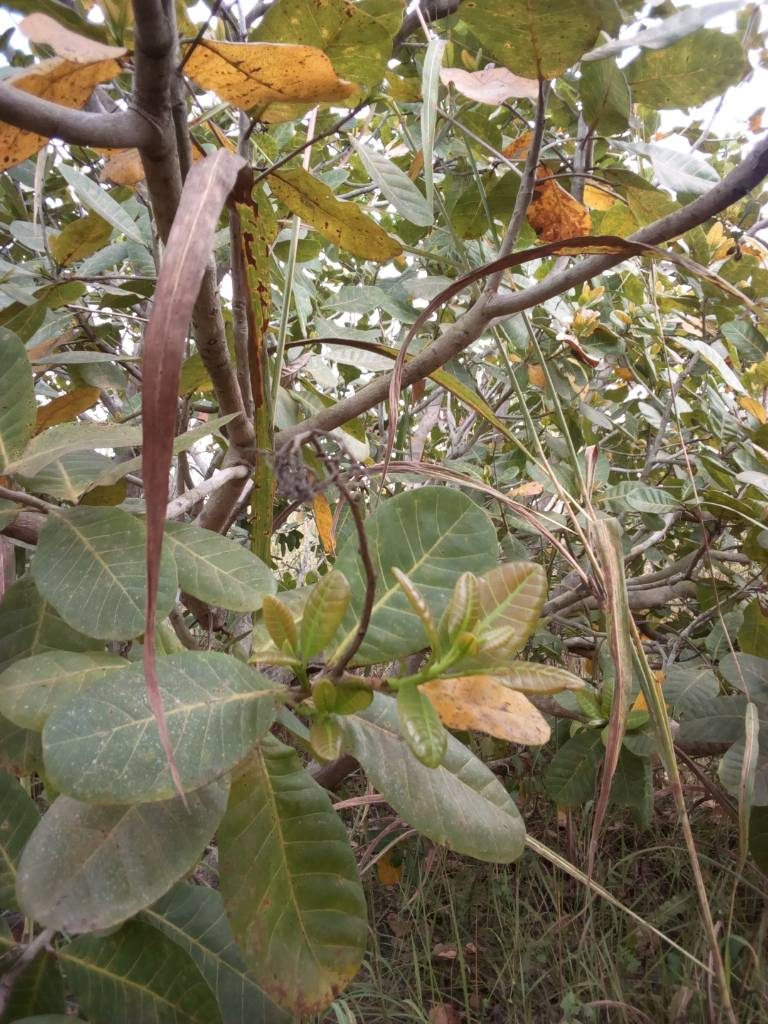Anthracnose: (227, 753, 365, 1017), (174, 30, 358, 116), (261, 161, 405, 263), (425, 669, 555, 744)
